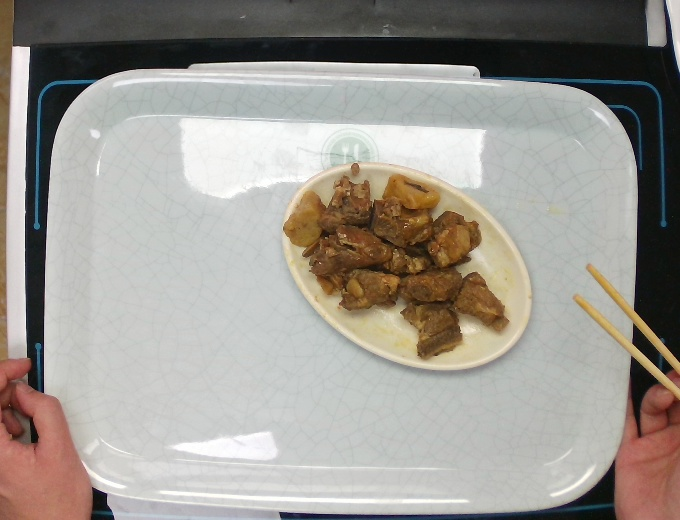JYsf-Tuo_Yuan_Wan: (280, 159, 537, 373)
